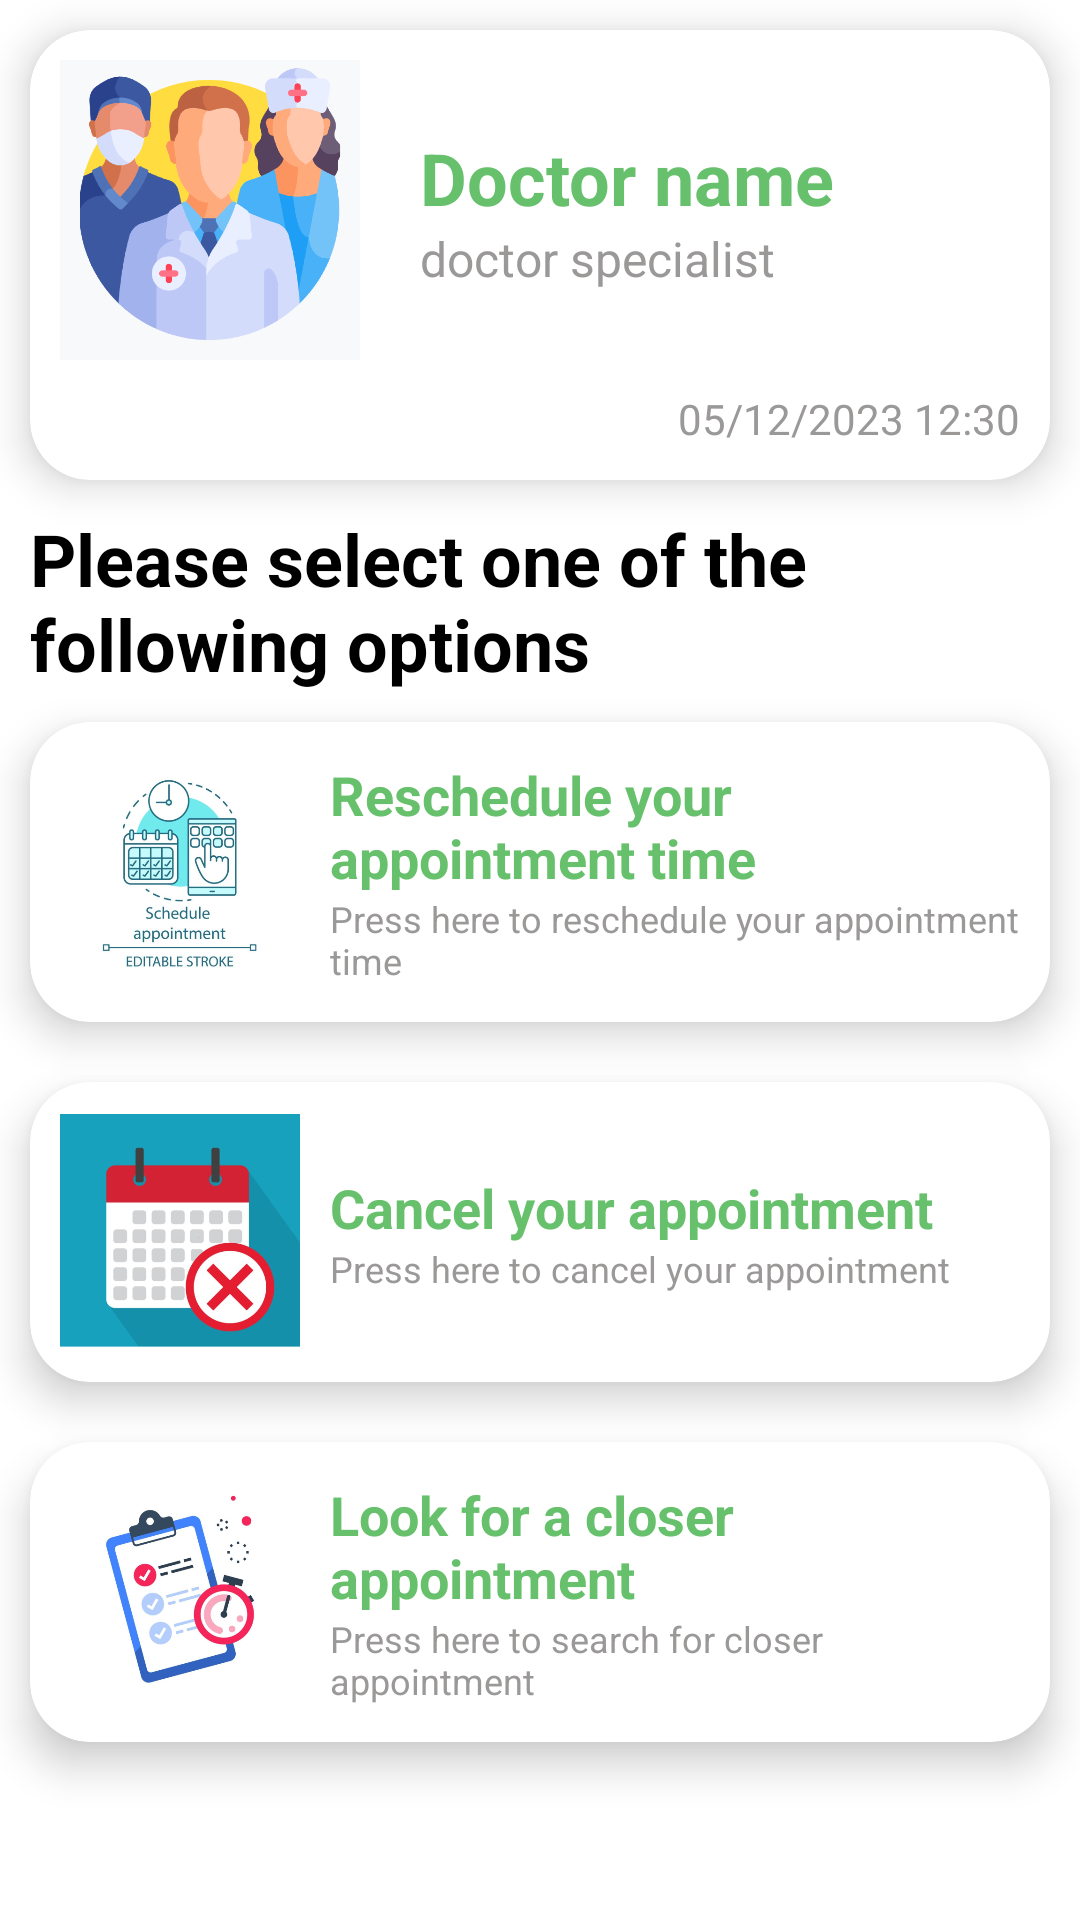

Screen size 1080px x 1920px. Icon name, then its box in pixels as (left=x1, top=y1, right=x2, bottom=y2):
reshedule: (left=103, top=780, right=257, bottom=967)
waiting: (left=106, top=1496, right=254, bottom=1683)
